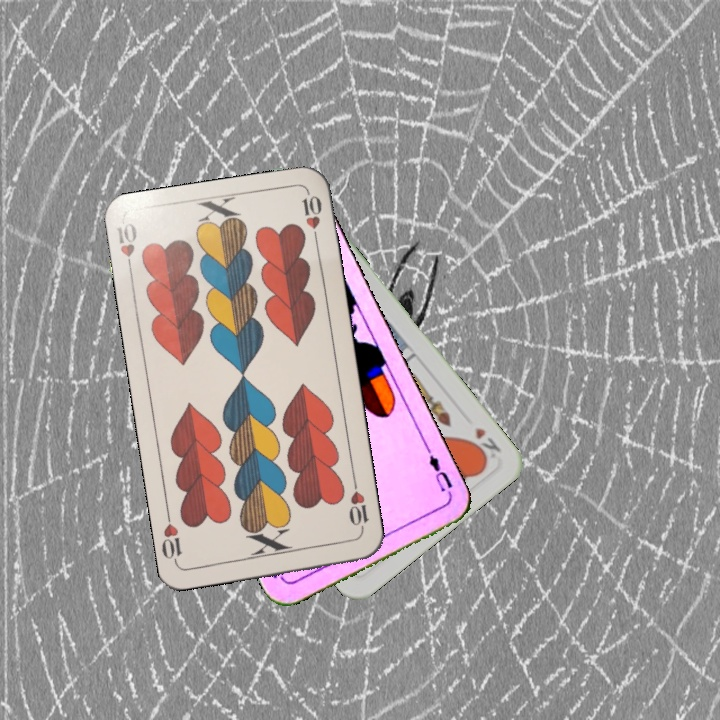EU: (424, 451, 456, 495)
H10: (344, 477, 372, 536), (112, 219, 140, 278)
HK: (465, 423, 504, 465)
